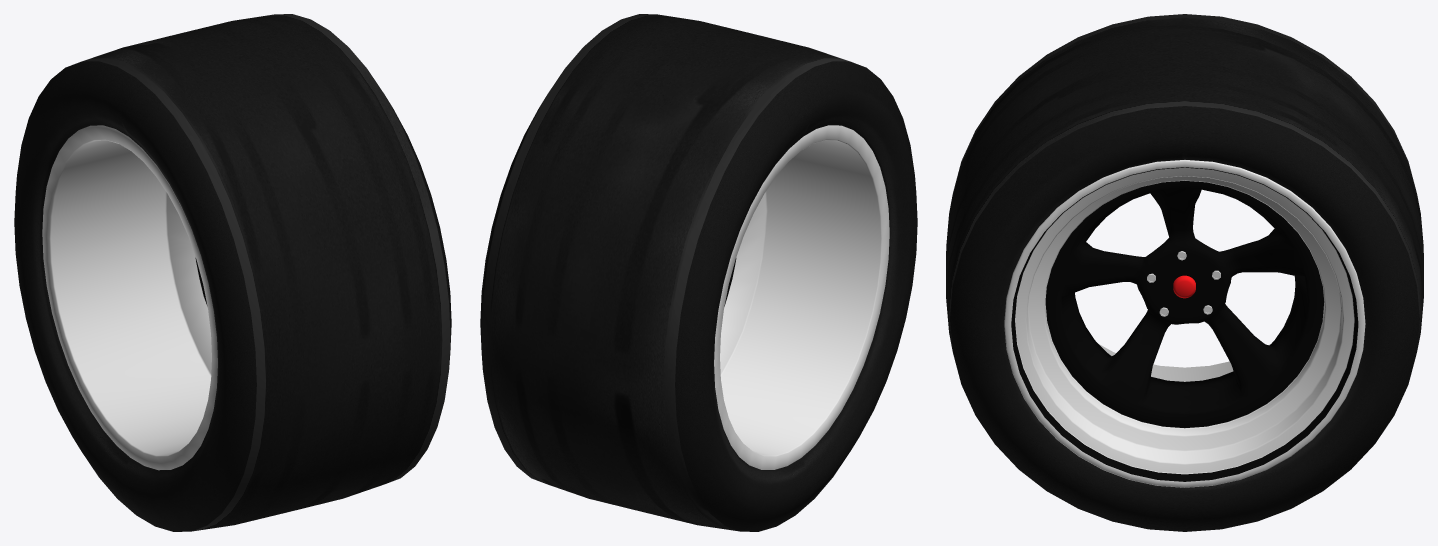
Rendered from tokii_abyss_rear_wheel.gltf.
3 renders of one model, left to right at view 1: azimuth 30°, elevation 25°; view 2: azimuth 150°, elevation 25°; view 3: azimuth 270°, elevation 25°, orthographic. The views are drawn at different scales.
Visible parts, largest first — view 1: Object_35; view 2: Object_35; view 3: Object_35.
Part boxes in pixels (x1,y1,x2,y2): Object_35: (14,14,451,531); Object_35: (480,14,917,531); Object_35: (946,14,1423,531).
Bounding box in the file's own units: 0.4117 × 0.7788 × 0.7788.
Materials: 4 (1 with a texture image).
